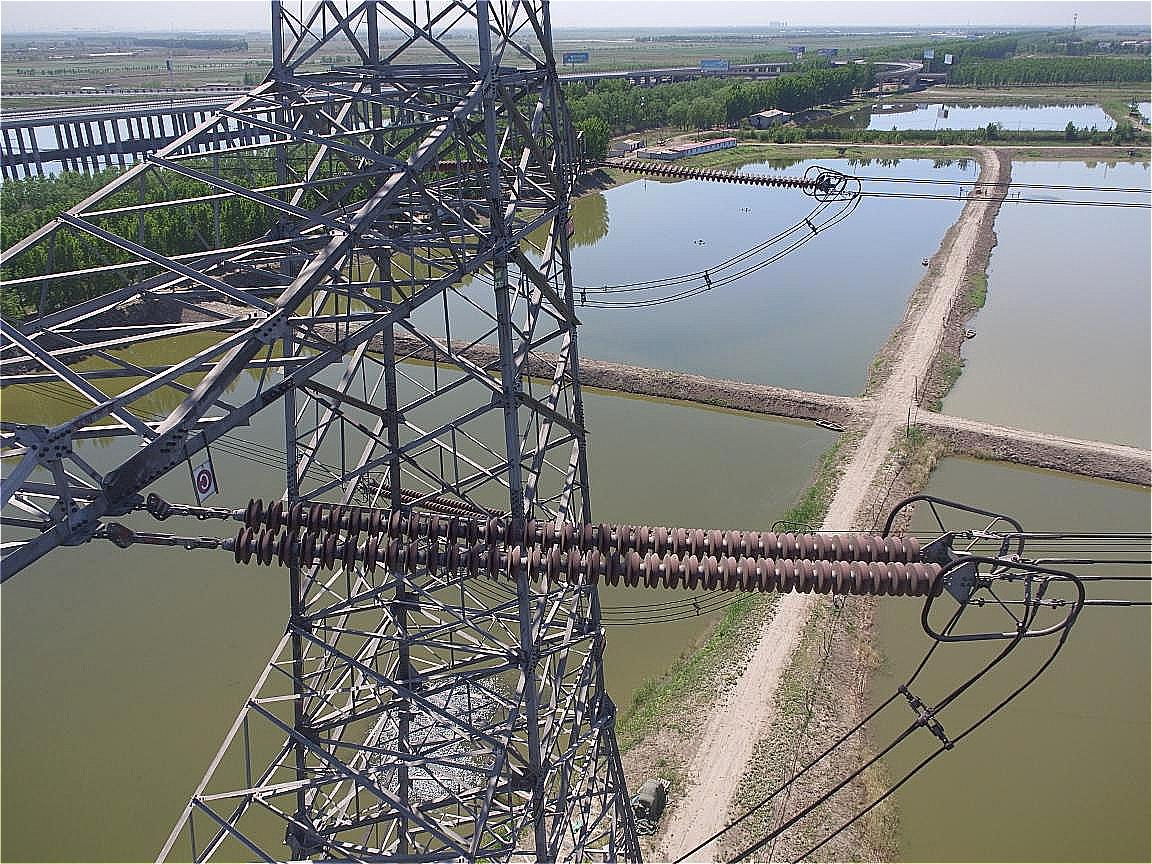insultor1: (614, 156, 832, 194)
insultor2: (216, 494, 977, 609)
